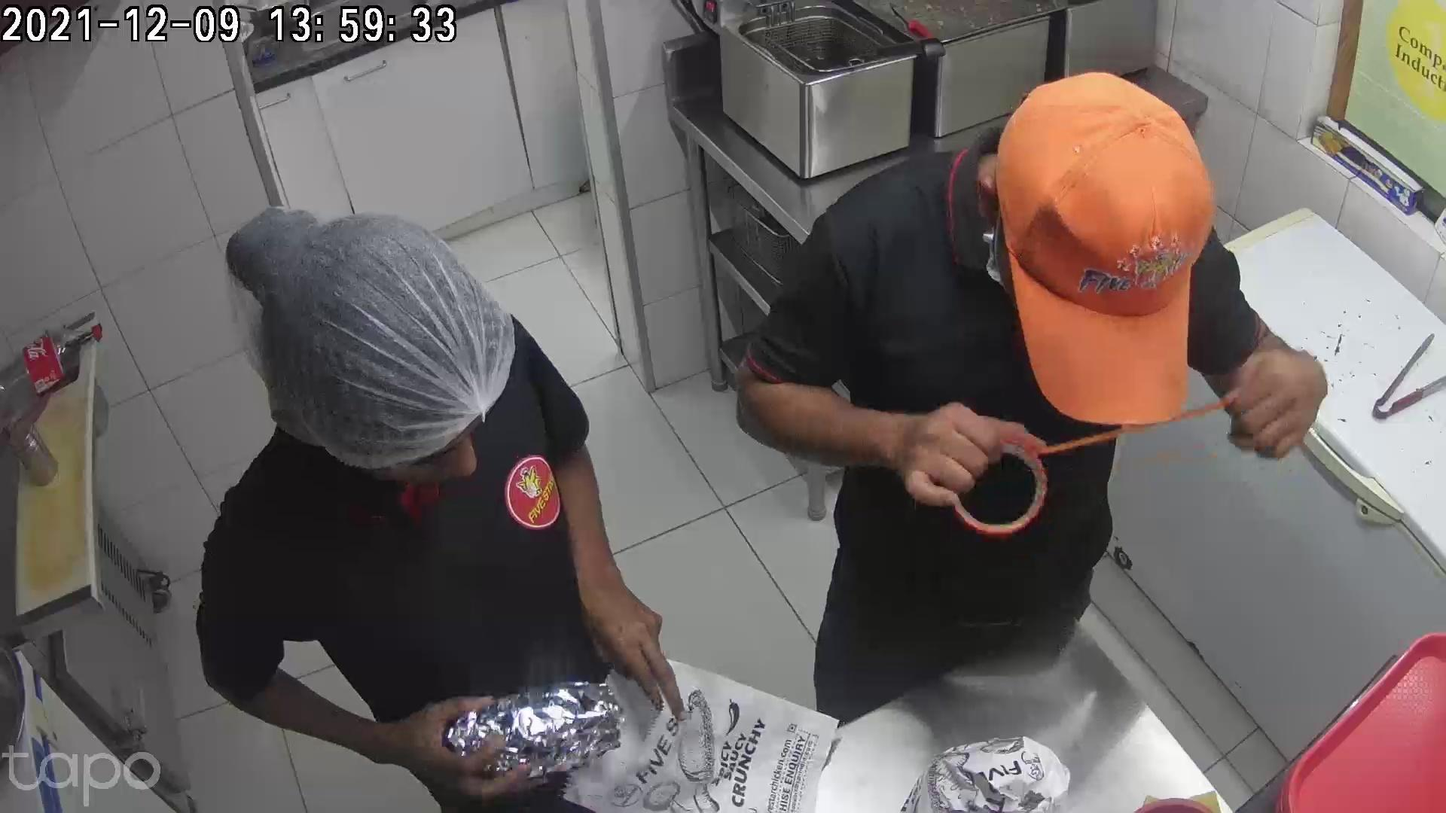no_gloves: (864, 411, 1001, 507)
